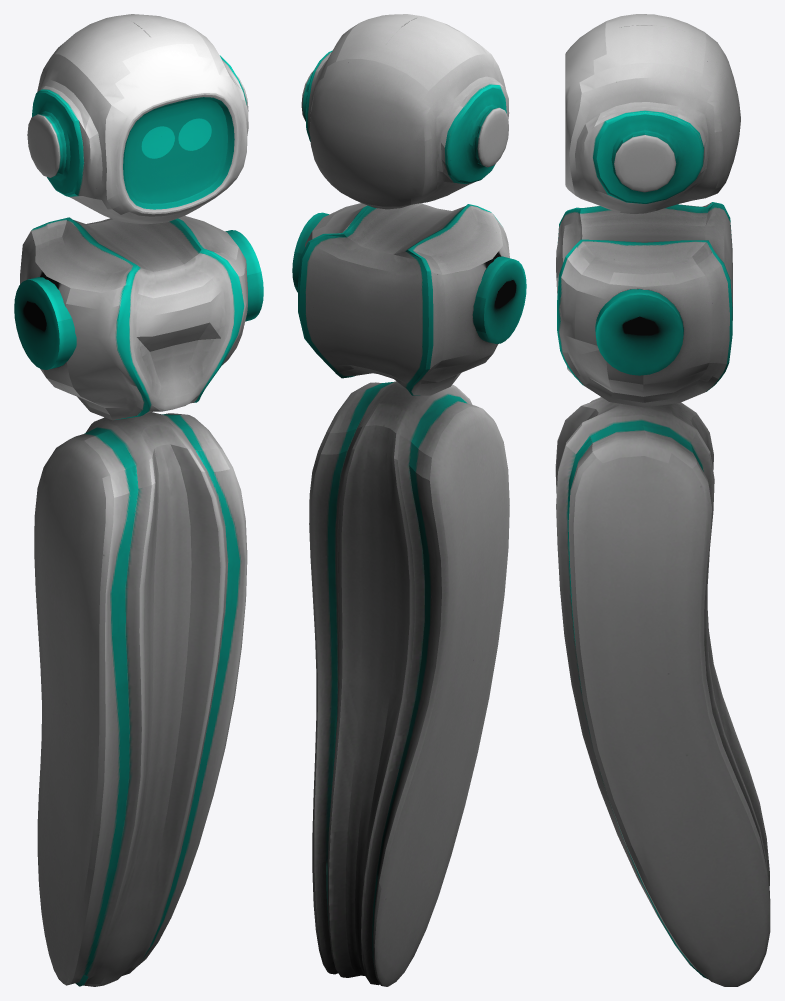
Rendered from pod-classic.obj.
3 renders of one model, left to right at view 1: azimuth 30°, elevation 25°; view 2: azimuth 150°, elevation 25°; view 3: azimuth 270°, elevation 25°, orthographic. The views are drawn at different scales.
Visible parts, largest first — view 1: Body, Head; view 2: Body, Head; view 3: Body, Head.
Boxes of the visible parts, bbox=[...] form: Body: bbox=[14, 216, 263, 986]; Head: bbox=[27, 14, 248, 224]; Body: bbox=[292, 203, 526, 986]; Head: bbox=[301, 14, 509, 209]; Body: bbox=[555, 202, 770, 986]; Head: bbox=[565, 14, 740, 213].
Bounding box in the file's own units: 0.3429 × 1.57 × 0.3208.
2 materials, 2 textured.
